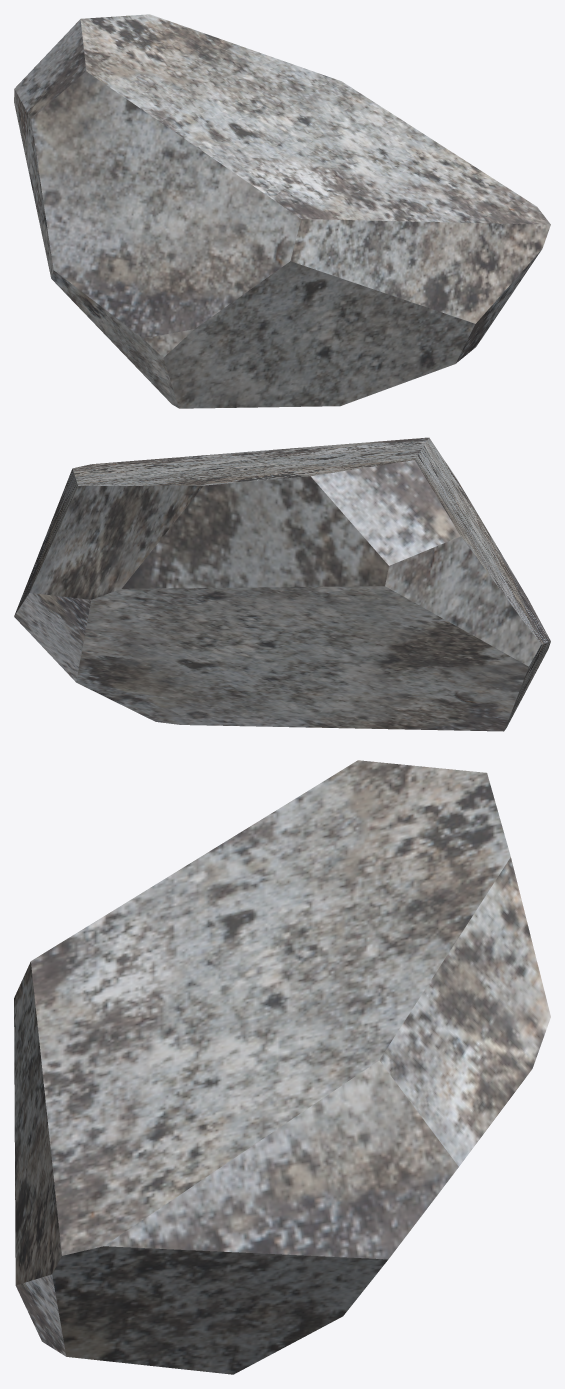
Rendered from Asteroid_Large_001_02_012_03_014.fbx.
The picture shows the model from 3 angles, top to bottom: view 1: azimuth 30°, elevation 25°; view 2: azimuth 150°, elevation 25°; view 3: azimuth 270°, elevation 25°; orthographic projection. The views are drawn at different scales.
Visible parts, largest first — view 1: Asteroid_Large_001_02_012_03_014; view 2: Asteroid_Large_001_02_012_03_014; view 3: Asteroid_Large_001_02_012_03_014.
Part boxes in pixels (box(x1,y1,x2,y2)): Asteroid_Large_001_02_012_03_014: box(14, 14, 550, 408); Asteroid_Large_001_02_012_03_014: box(14, 437, 550, 731); Asteroid_Large_001_02_012_03_014: box(14, 760, 550, 1374).
Size of the model in its own units: 12.26 by 8.6 by 9.19.
